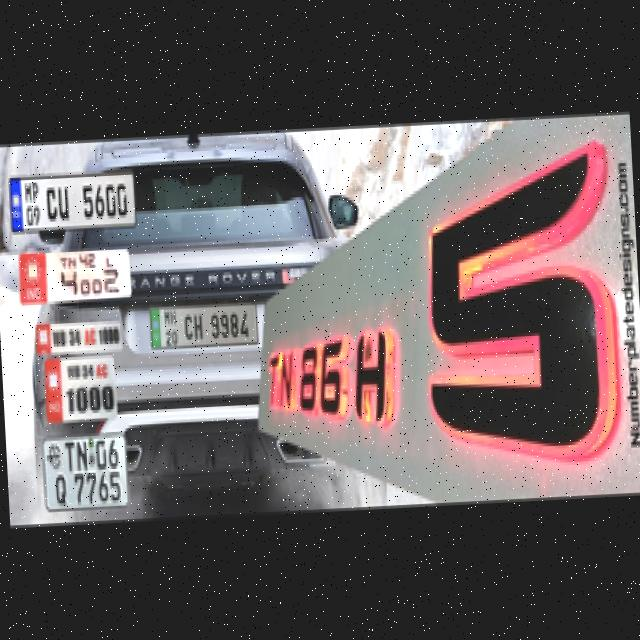Autre: (8, 166, 138, 236), (18, 247, 134, 307), (46, 440, 126, 512), (145, 300, 260, 350), (44, 354, 118, 428), (36, 320, 122, 361)
